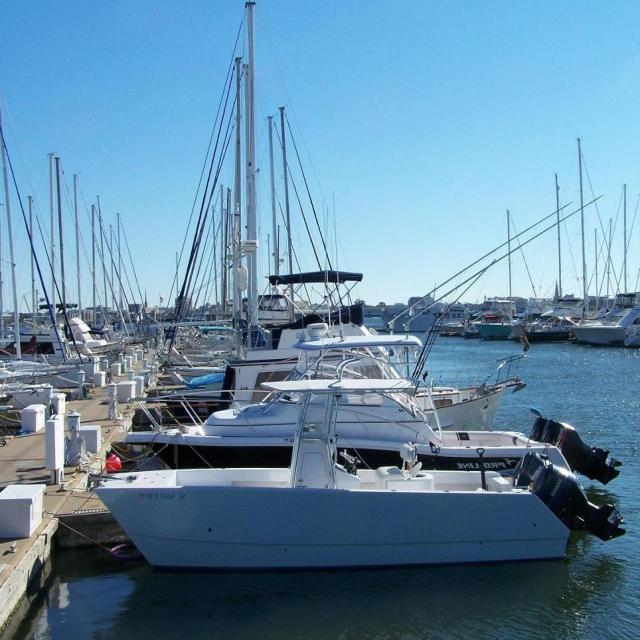houseboat: (104, 420, 556, 569), (104, 365, 542, 485)
